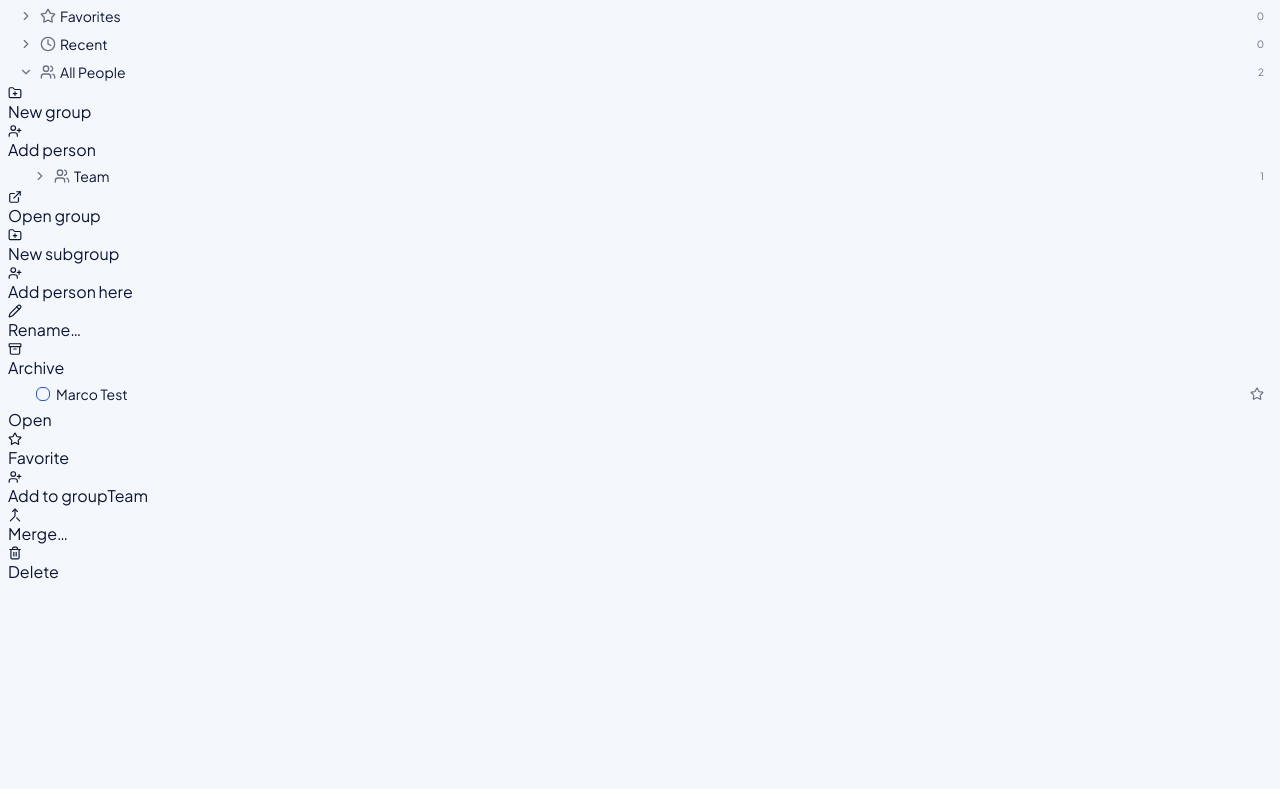
PeopleTree — bulk-select checkbox clicks (regression: checkbox click navigated away) › selects a person under a group row (member rows share the same code path)
# Expand the Team group under "All People" (expanded by default).
What coordinates should you click on to do the following:
click the button "Team 1"
I would click on:
 (92, 176)
Its box is [8,162,1272,190].
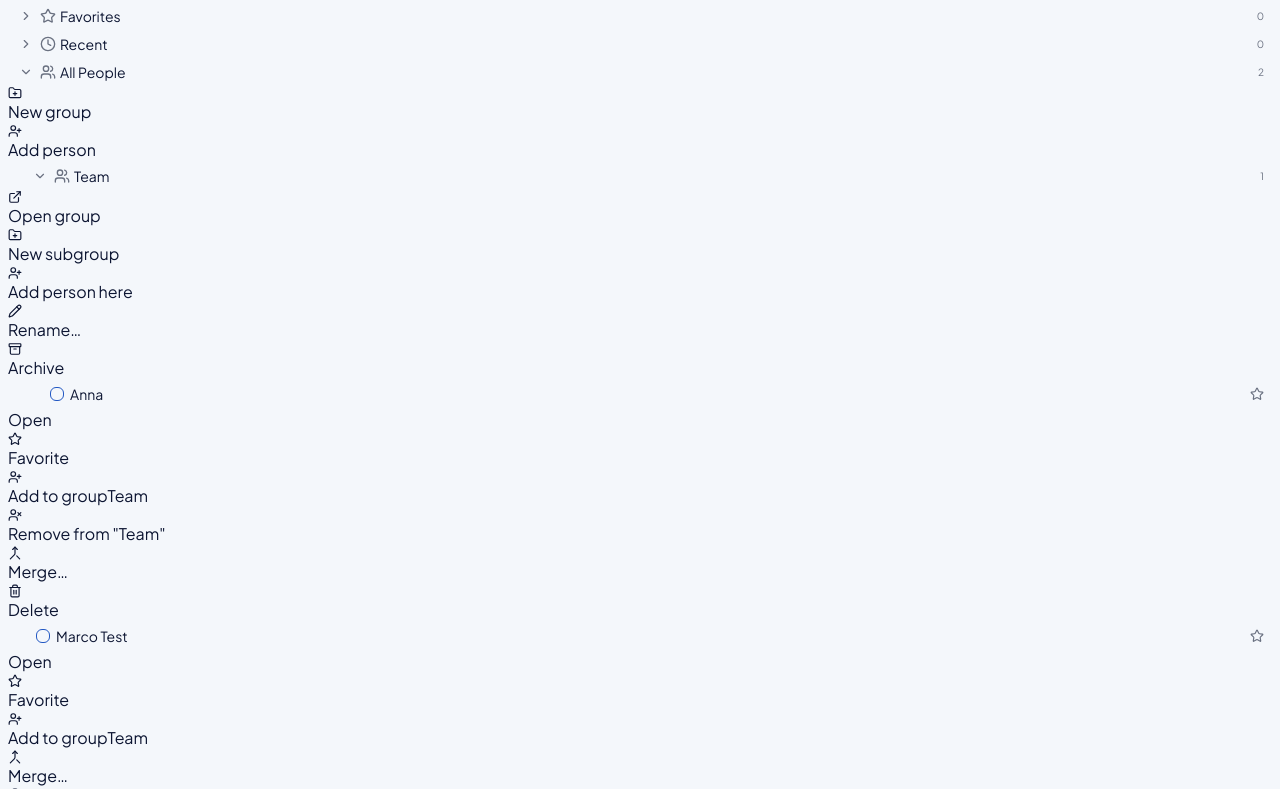
What coordinates should you click on to do the following:
click the checkbox named "Select Anna"
I would click on:
 (57, 394)
Its box is [50,387,64,401].
(page scrolled)
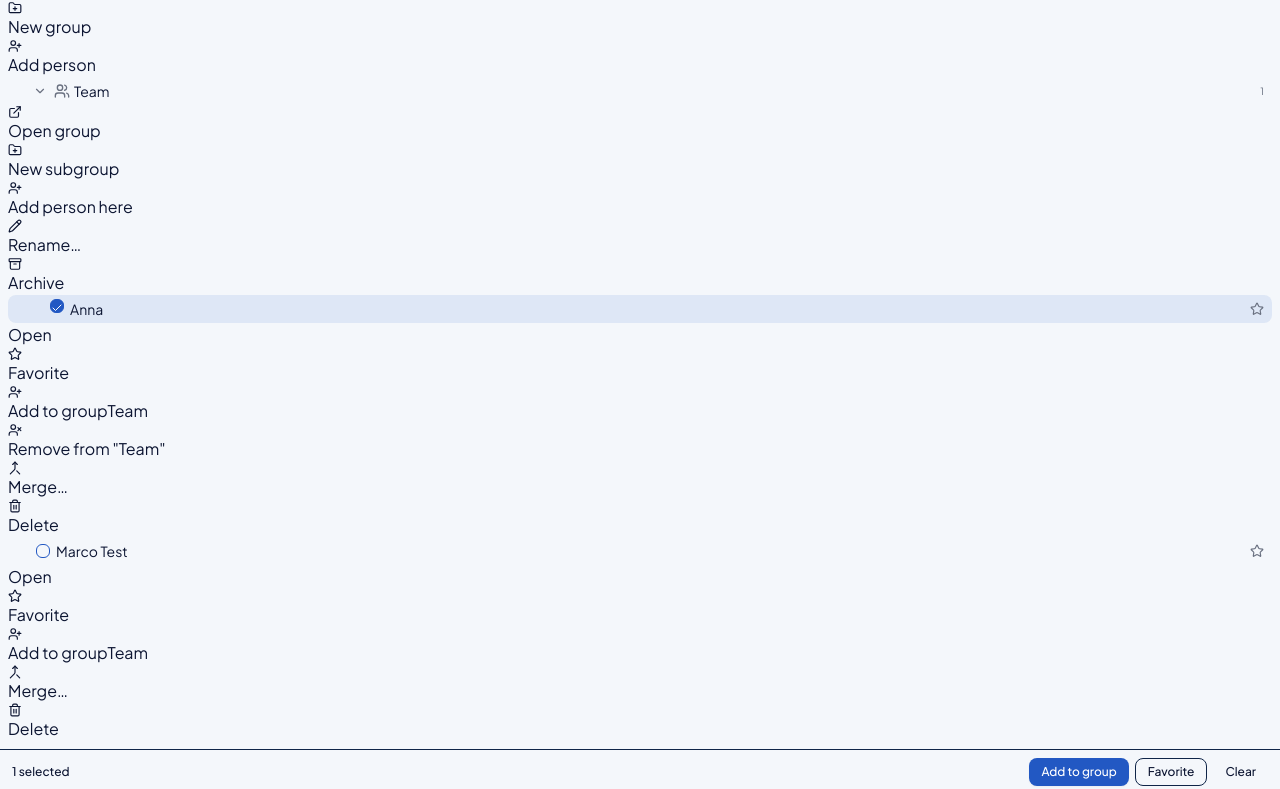
Expected: the text "1 selected" is shown, [12,764,70,780]
